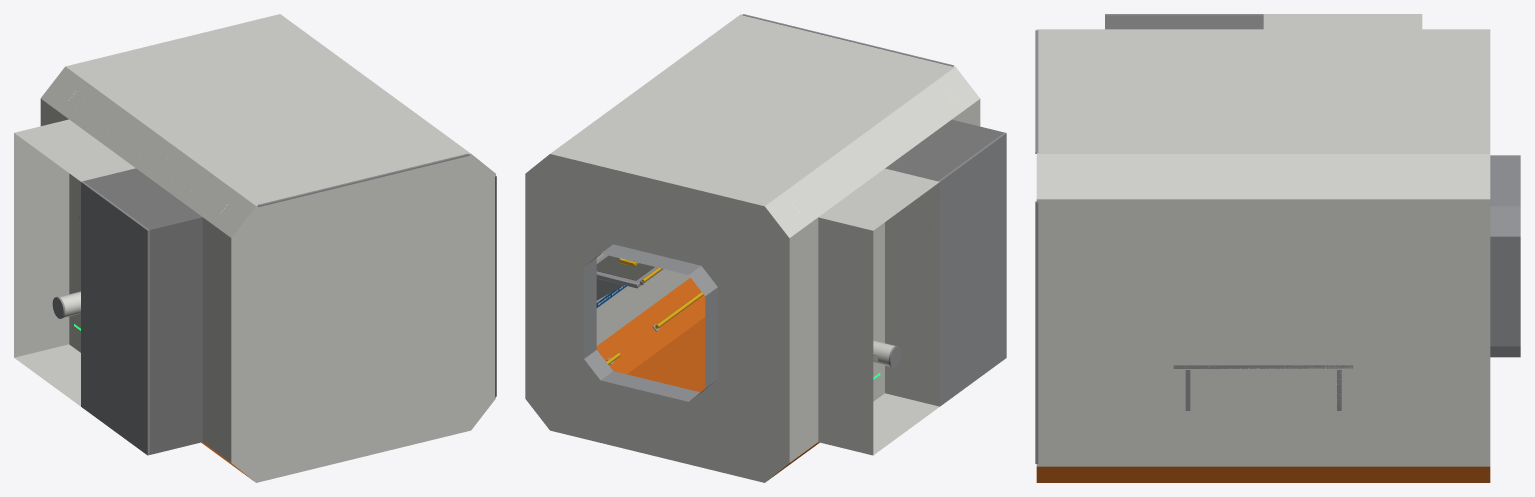
Rendered from Layout_Modulo_Tacuarembo.fbx.
3 renders of one model, left to right at view 1: azimuth 30°, elevation 25°; view 2: azimuth 150°, elevation 25°; view 3: azimuth 270°, elevation 25°, orthographic. The views are drawn at different scales.
Visible parts, largest first — view 1: Casco_Tacuarembo, Rack_TAC-B1, Rack_TAC-B2, Filtro_CO2_instalado; view 2: Casco_Tacuarembo, Rack_TAC-B2, Rack_TAC-B1, Banco_Trabajo, Filtro_CO2_instalado; view 3: Casco_Tacuarembo, Rack_TAC-B2, Rack_TAC-B1, Banco_Trabajo.
Part boxes in pixels (x1,y1,x2,y2): Casco_Tacuarembo: (40, 14, 496, 482); Rack_TAC-B1: (81, 168, 202, 455); Rack_TAC-B2: (14, 119, 135, 406); Filtro_CO2_instalado: (52, 291, 80, 318); Casco_Tacuarembo: (525, 14, 980, 482); Rack_TAC-B2: (818, 168, 939, 455); Rack_TAC-B1: (885, 119, 1006, 406); Banco_Trabajo: (596, 254, 663, 300); Filtro_CO2_instalado: (873, 340, 901, 367); Casco_Tacuarembo: (1035, 29, 1520, 482); Rack_TAC-B2: (1263, 14, 1422, 29); Rack_TAC-B1: (1105, 14, 1263, 29); Banco_Trabajo: (1173, 365, 1352, 410).
Size of the model in its own units: 2.9 by 2.4 by 3.21.
